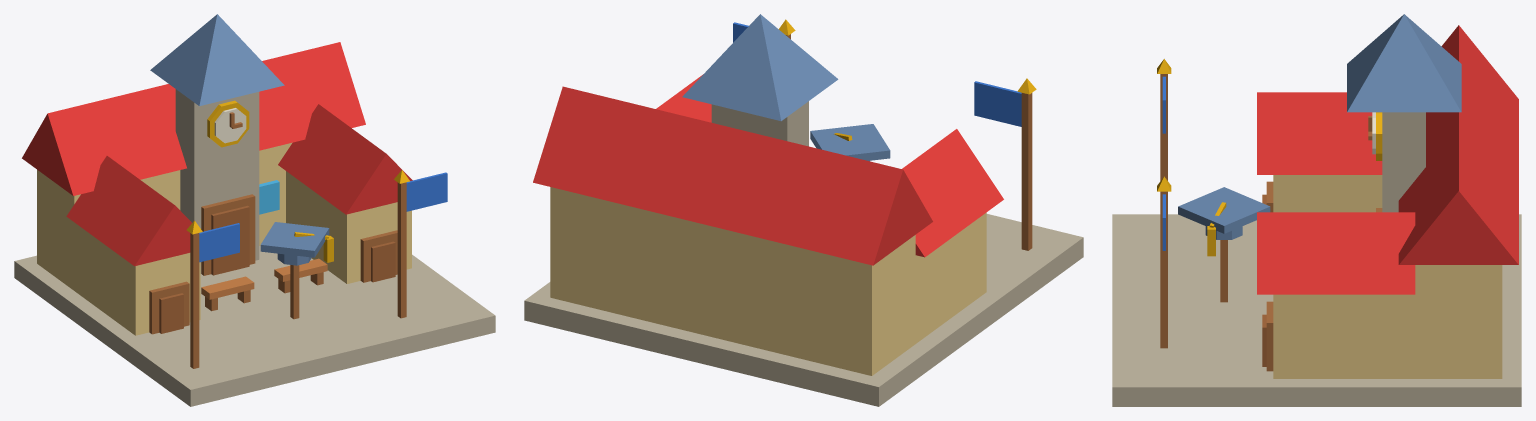
File: university_t2_v1.glb
3 views of the same model, side by side, from view 1: azimuth 30°, elevation 25°; view 2: azimuth 150°, elevation 25°; view 3: azimuth 270°, elevation 25° (orthographic). The views are drawn at different scales.
Parts seen in each view (by area): view 1: university_t2_v1; view 2: university_t2_v1; view 3: university_t2_v1.
Boxes of the visible parts, box(x1,y1,x2,y2) form: university_t2_v1: box(14, 14, 495, 406); university_t2_v1: box(524, 14, 1083, 406); university_t2_v1: box(1112, 14, 1521, 406).
Size of the model in its own units: 0.75 by 0.62 by 0.75.
1 material, 1 textured.
